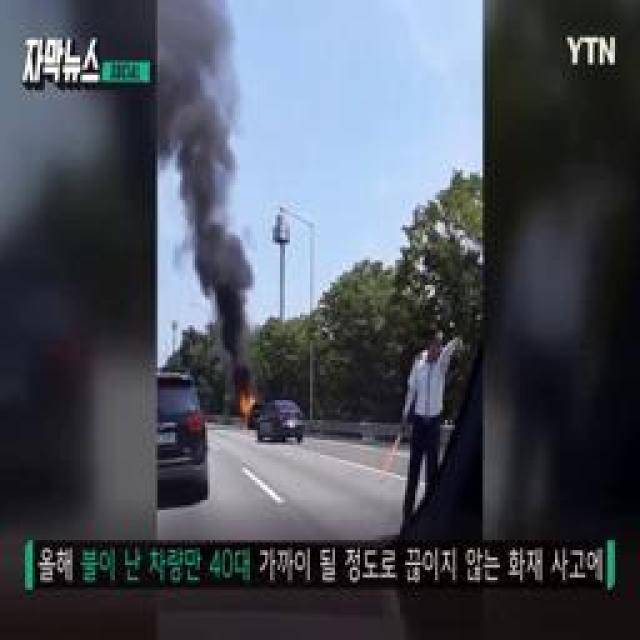Fire: (238, 392, 255, 427)
